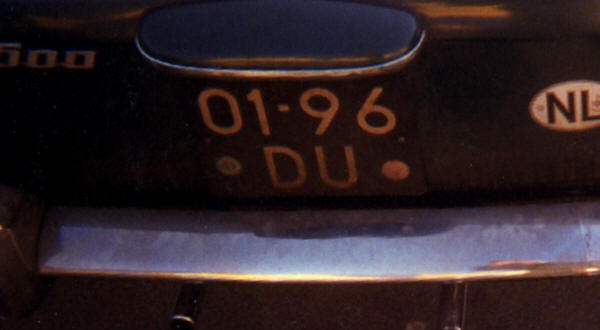license_plate: (172, 71, 431, 198)
